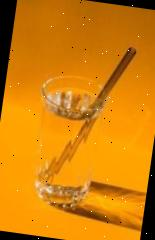glass: (23, 70, 112, 216)
